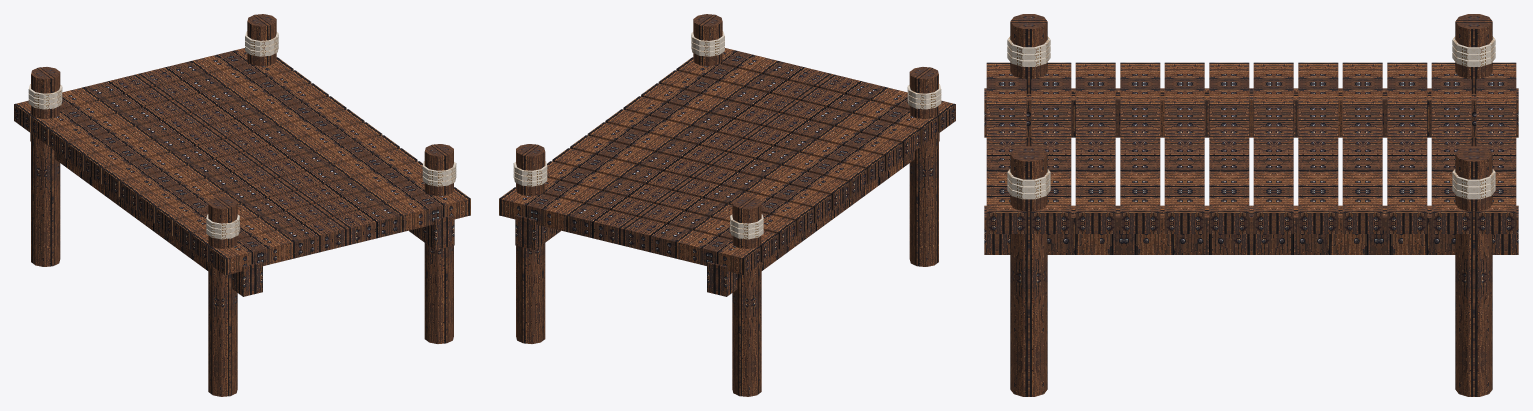
The model's file is dock.glb.
3 renders of one model, left to right at view 1: azimuth 30°, elevation 25°; view 2: azimuth 150°, elevation 25°; view 3: azimuth 270°, elevation 25°, orthographic. The views are drawn at different scales.
Parts seen in each view (by area): view 1: dock_canal_wood, dock_canal_plaster; view 2: dock_canal_wood, dock_canal_plaster; view 3: dock_canal_wood, dock_canal_plaster.
Boxes of the visible parts, x1=… form: dock_canal_wood: x1=14, y1=14, x2=470, y2=396; dock_canal_plaster: x1=28, y1=31, x2=456, y2=239; dock_canal_wood: x1=499, y1=14, x2=955, y2=396; dock_canal_plaster: x1=513, y1=31, x2=941, y2=239; dock_canal_wood: x1=984, y1=14, x2=1518, y2=396; dock_canal_plaster: x1=1007, y1=36, x2=1495, y2=199.
Bounding box in the file's own units: 2 × 1.46 × 3.
2 materials, 2 textured.
